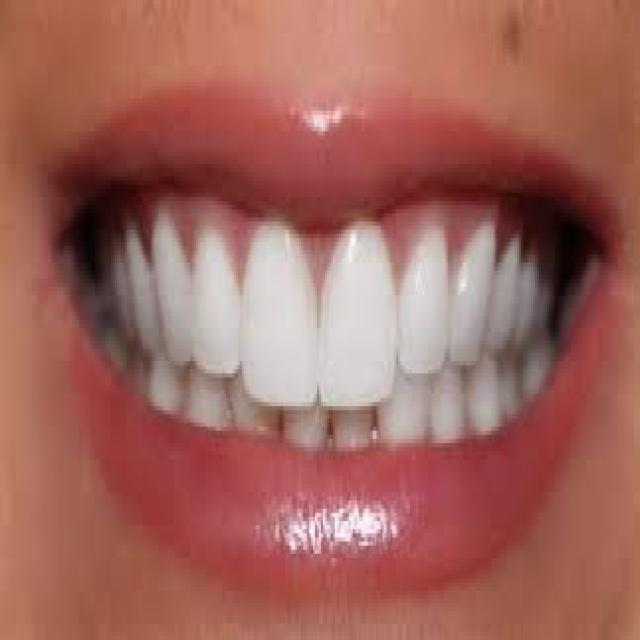tooth: (238, 218, 321, 418), (315, 230, 402, 406), (186, 218, 242, 386), (400, 214, 450, 382), (452, 185, 493, 382), (149, 205, 194, 361), (495, 217, 519, 361)
